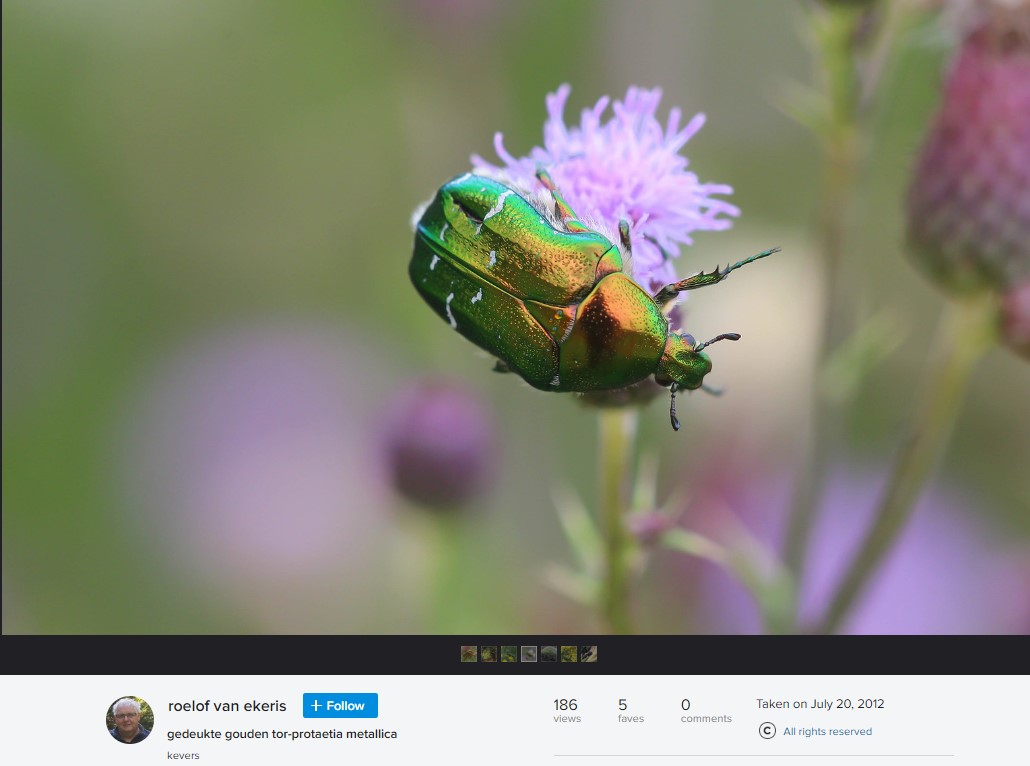Protaetia_metallica: (399, 151, 783, 460)
